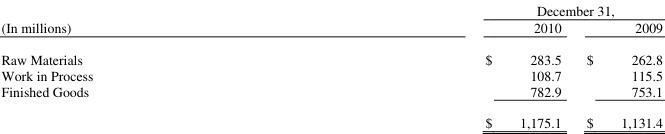table: (0, 0, 662, 130)
table column: (0, 0, 288, 130), (288, 0, 573, 130), (573, 0, 662, 130)
table column header: (0, 0, 662, 42)
table row: (0, 105, 662, 130), (0, 18, 662, 42), (0, 42, 662, 66), (0, 82, 662, 105), (0, 0, 662, 18), (0, 66, 662, 82)
table spanning cell: (0, 0, 288, 42), (288, 0, 662, 18)
